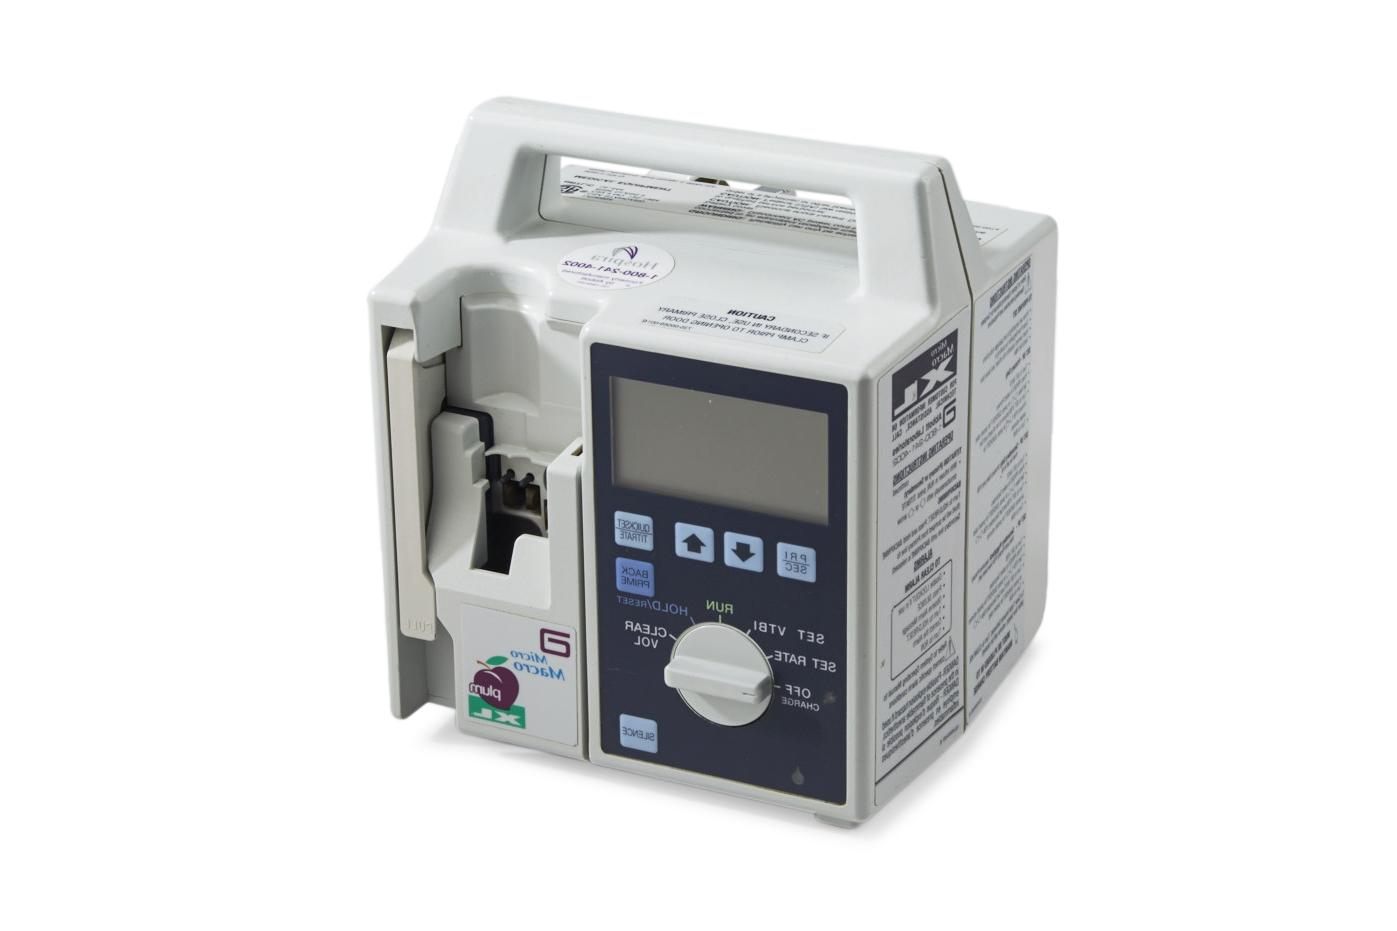plumxl1: (366, 94, 1093, 820)
